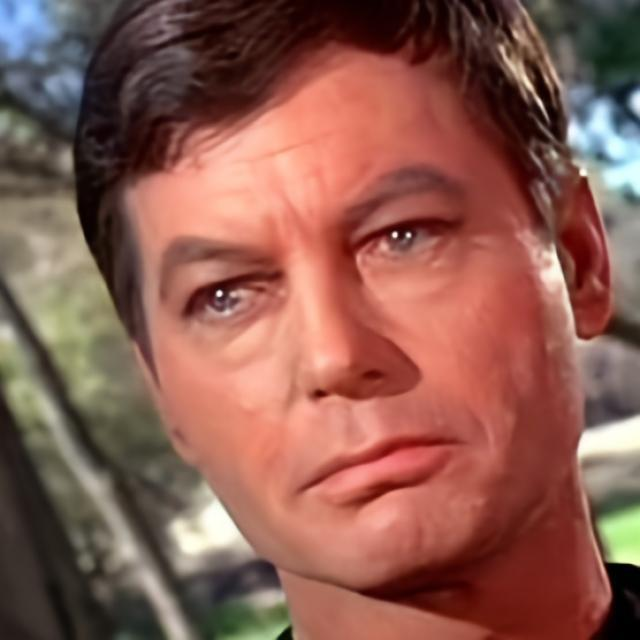anger: (139, 37, 556, 586)
